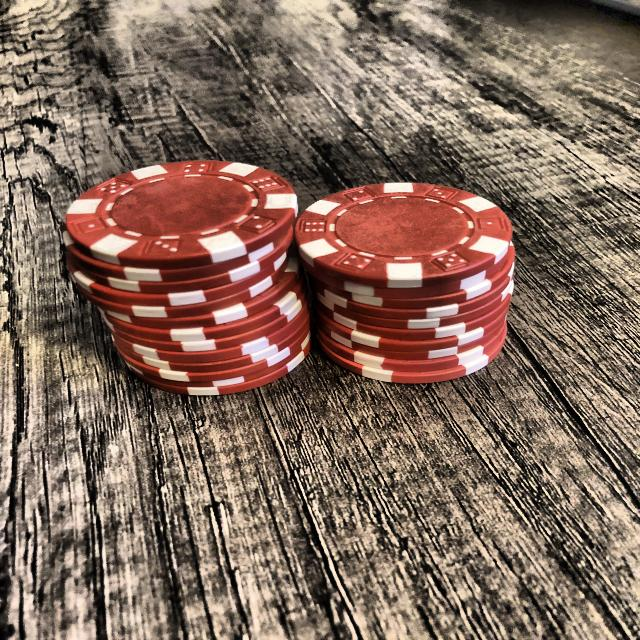Chip: (61, 159, 314, 397), (294, 180, 519, 386)
